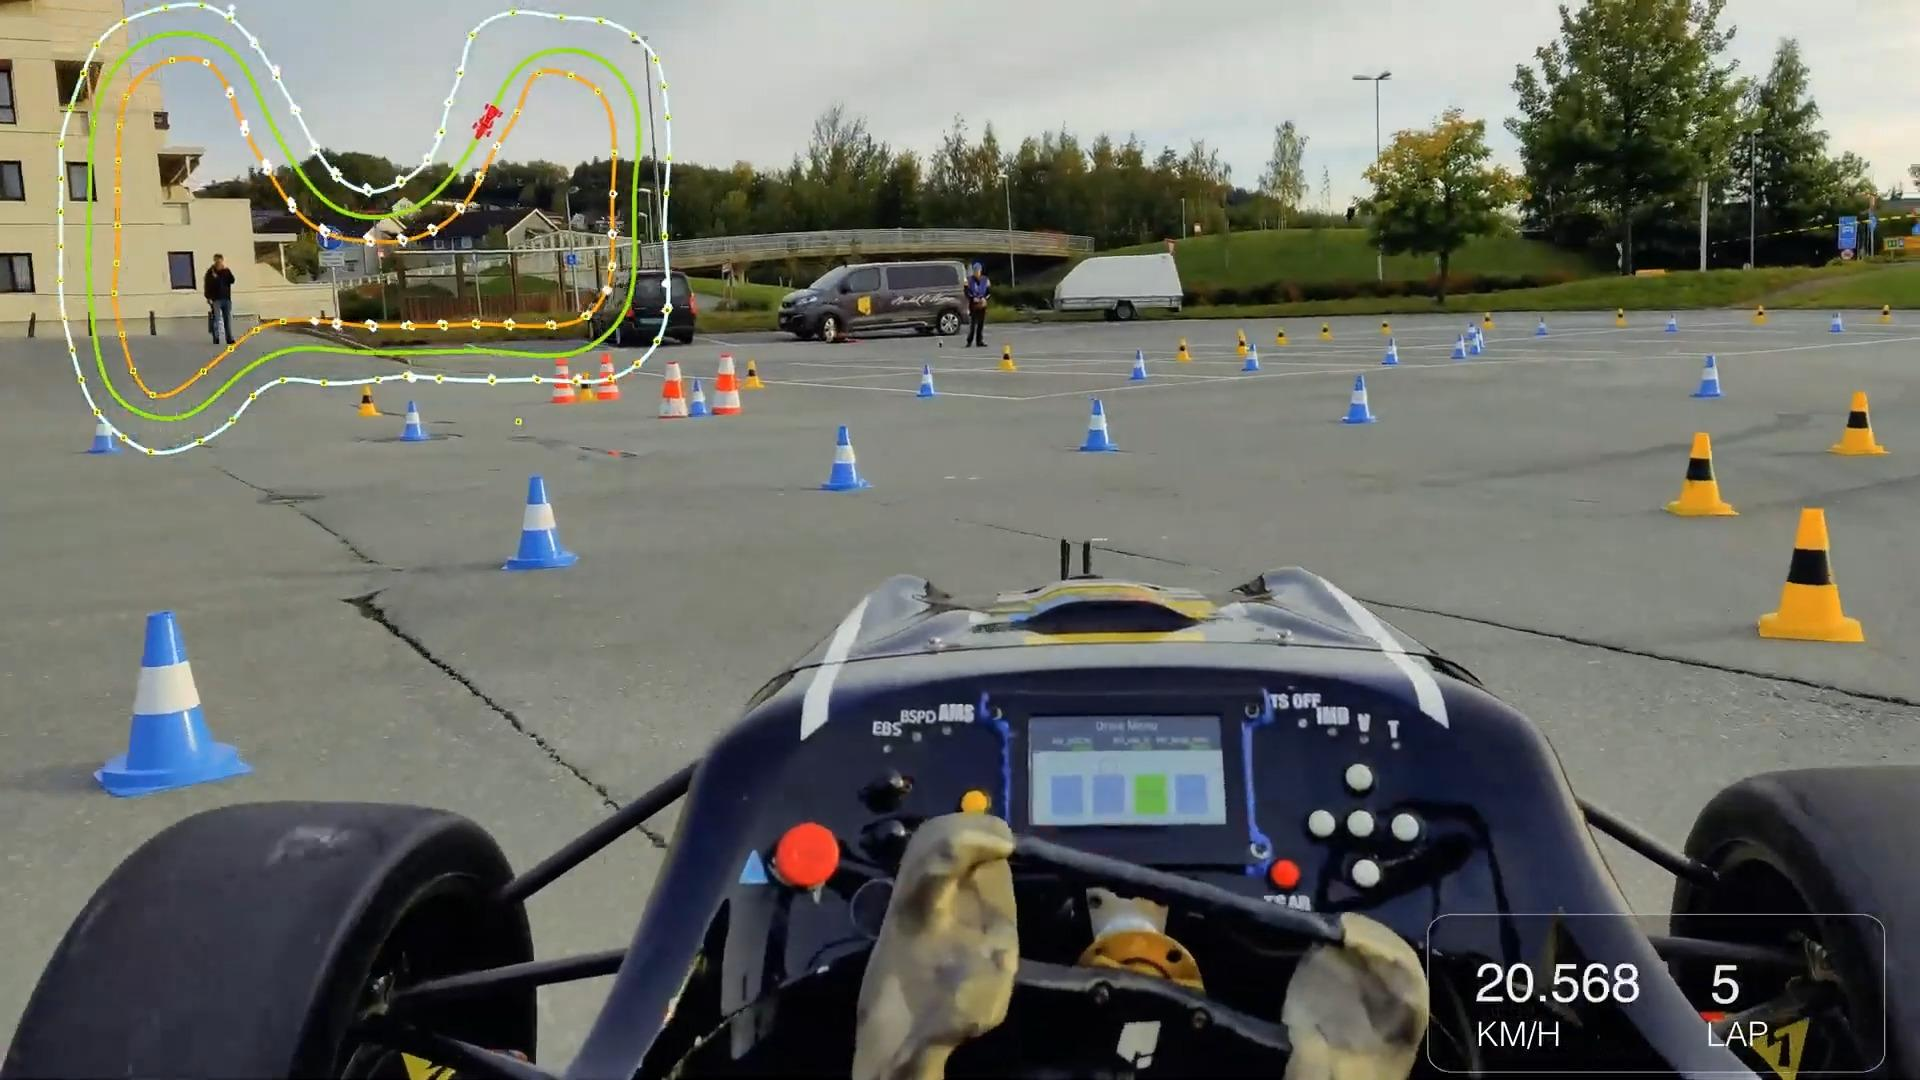blue_cone: (92, 611, 251, 796), (505, 476, 582, 574), (822, 422, 869, 492), (1076, 396, 1120, 456), (1687, 352, 1729, 401), (1340, 371, 1377, 426), (88, 406, 121, 456), (401, 398, 429, 443), (686, 380, 708, 419), (1127, 347, 1150, 386), (918, 364, 938, 402), (1381, 335, 1399, 369), (1242, 339, 1259, 373), (1829, 307, 1845, 336), (1451, 332, 1465, 361), (1665, 313, 1681, 335), (1465, 323, 1478, 349), (1469, 330, 1481, 357), (1536, 315, 1549, 335)
large_orange_cone: (655, 359, 691, 419), (711, 349, 740, 413), (550, 356, 576, 404), (596, 352, 620, 404)
yellow_cone: (1755, 501, 1870, 649), (1665, 429, 1745, 522), (1833, 385, 1891, 460), (571, 371, 595, 406), (356, 381, 378, 418), (740, 359, 762, 392), (997, 343, 1017, 376), (1317, 315, 1335, 345), (1378, 318, 1395, 344), (1878, 302, 1895, 328), (1175, 334, 1189, 364), (1753, 303, 1768, 328), (1275, 326, 1290, 351), (1236, 328, 1246, 360), (1481, 310, 1493, 330), (1614, 307, 1625, 327)
